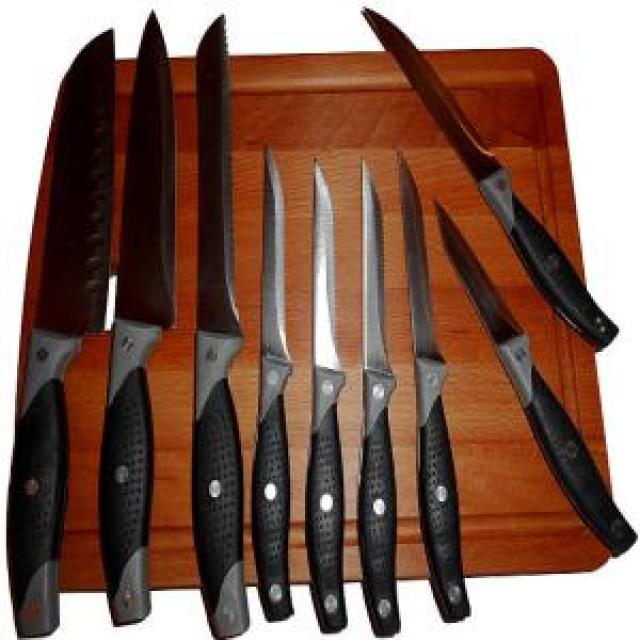knife: (346, 6, 629, 350), (0, 19, 122, 638), (429, 198, 637, 555), (166, 6, 278, 638), (98, 0, 186, 635), (392, 141, 476, 638), (245, 109, 305, 634), (350, 158, 407, 623), (300, 156, 346, 634)
